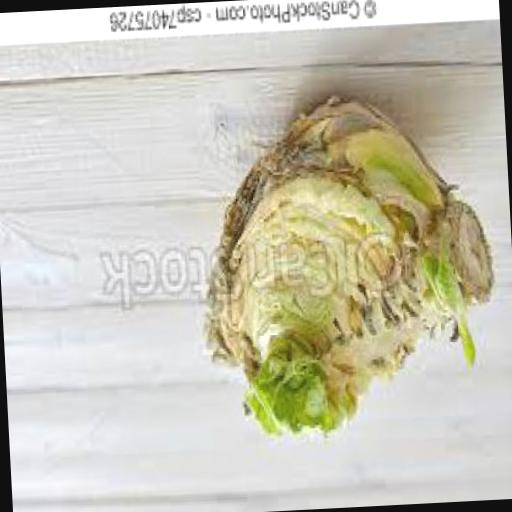biodegradable: (196, 96, 504, 447)
